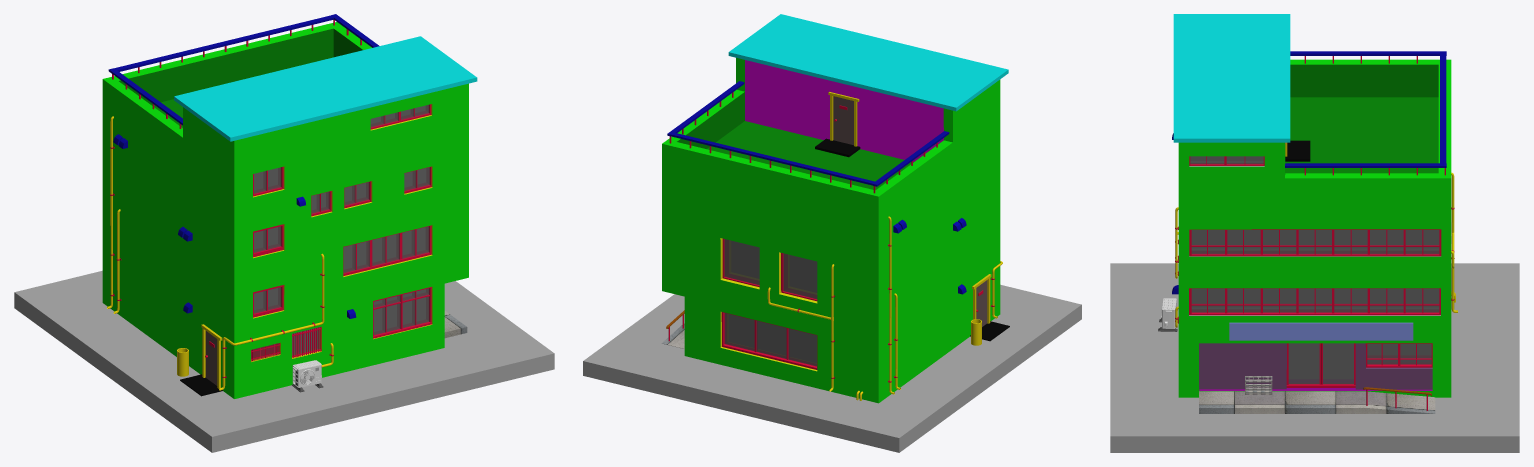
File: building3_high.fbx
3 renders of one model, left to right at view 1: azimuth 30°, elevation 25°; view 2: azimuth 150°, elevation 25°; view 3: azimuth 270°, elevation 25°, orthographic. The views are drawn at different scales.
Visible parts, largest first — view 1: polySurface429; view 2: polySurface429; view 3: polySurface429.
Part boxes in pixels (<box>): polySurface429: <box>14,14,554,452</box>; polySurface429: <box>583,14,1081,452</box>; polySurface429: <box>1110,14,1519,452</box>.
Size of the model in its own units: 14.23 by 11.16 by 14.23.
